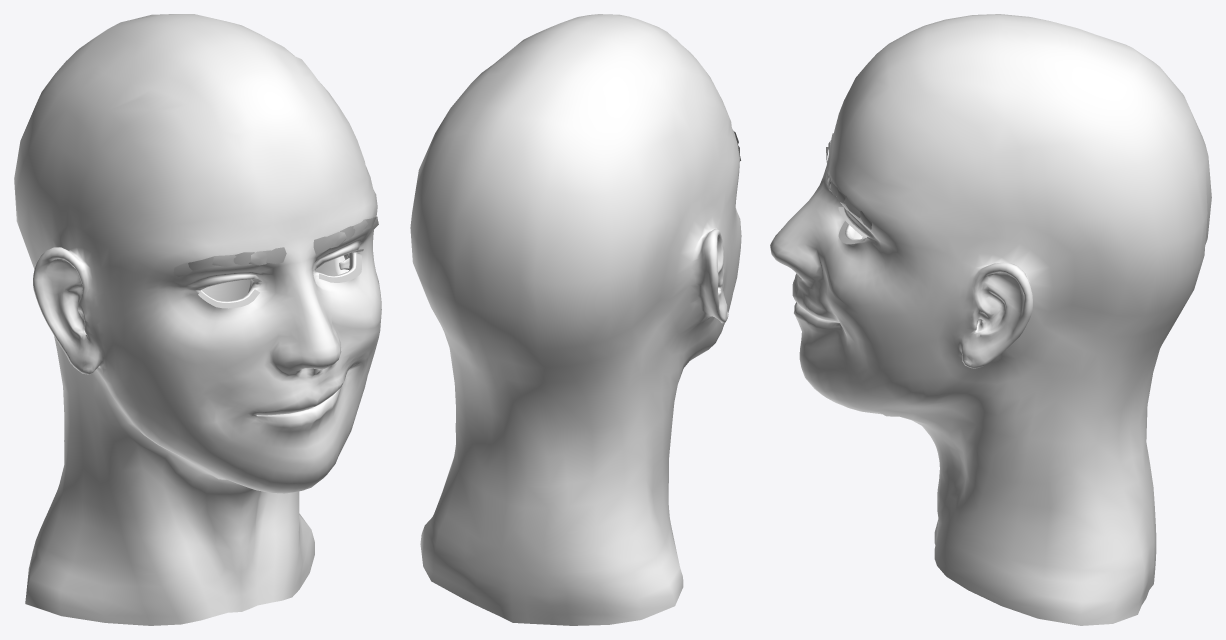
File: mouthSmileLeft.obj
The picture shows the model from 3 angles, left to right: view 1: azimuth 30°, elevation 25°; view 2: azimuth 150°, elevation 25°; view 3: azimuth 270°, elevation 25°; orthographic projection. The views are drawn at different scales.
Visible parts, largest first — view 1: FaceMesh_Plane.003; view 2: FaceMesh_Plane.003; view 3: FaceMesh_Plane.003.
Part boxes in pixels (x1,y1,x2,y2): FaceMesh_Plane.003: (14, 14, 381, 625); FaceMesh_Plane.003: (410, 14, 741, 625); FaceMesh_Plane.003: (770, 14, 1211, 625).
Size of the model in its own units: 1.54 by 2.71 by 1.94.
Materials: 5 (1 with a texture image).
